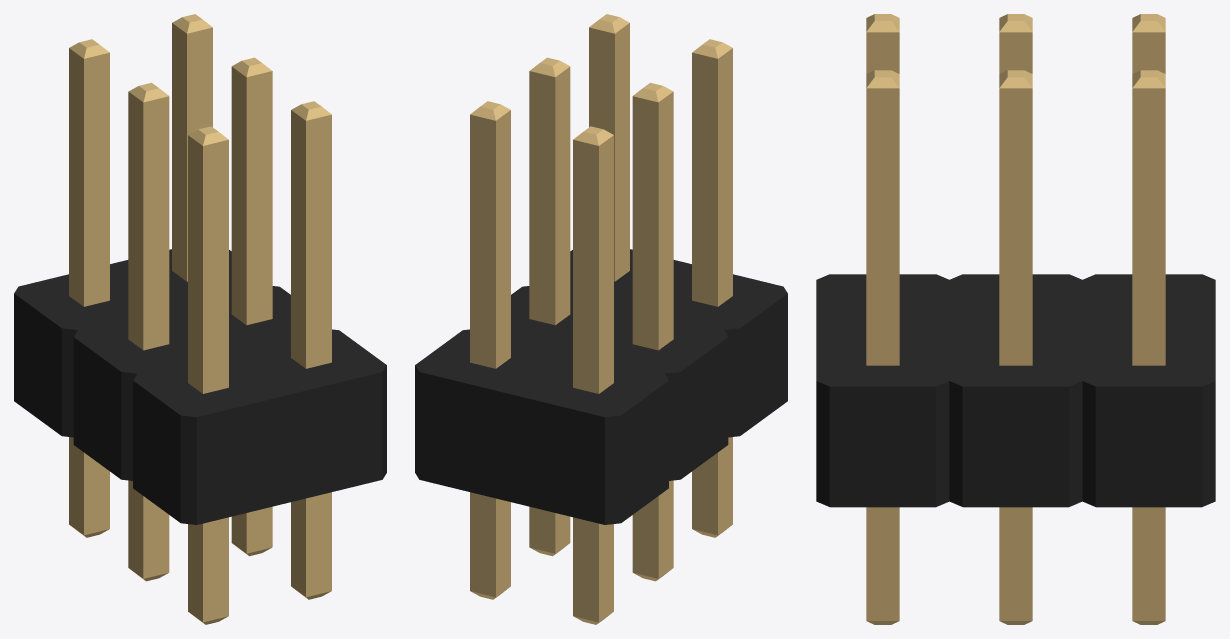
Rendered from PinHeader_2x03_P2.54mm_Vertical.glb.
3 renders of one model, left to right at view 1: azimuth 30°, elevation 25°; view 2: azimuth 150°, elevation 25°; view 3: azimuth 270°, elevation 25°, orthographic. The views are drawn at different scales.
Parts seen in each view (by area): view 1: =>[0:1:1:3]; view 2: =>[0:1:1:3]; view 3: =>[0:1:1:3].
Boxes of the visible parts, <box> form: =>[0:1:1:3]: <box>14,14,386,624</box>; =>[0:1:1:3]: <box>415,14,787,624</box>; =>[0:1:1:3]: <box>816,14,1215,624</box>.
Bounding box in the file's own units: 0.00508 × 0.0115 × 0.00762.
